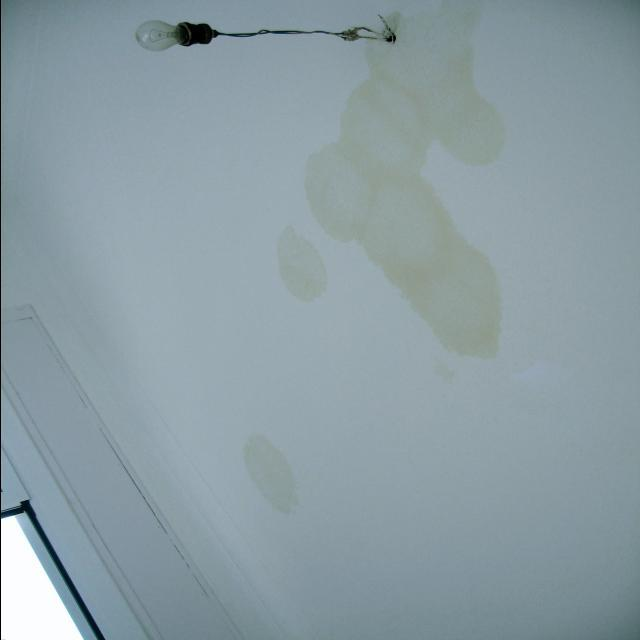leak: (305, 4, 500, 361), (242, 431, 302, 514), (279, 224, 333, 304), (433, 357, 461, 382)
